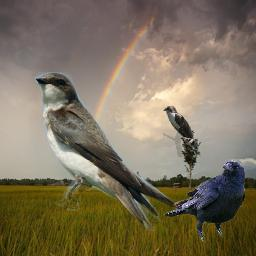Crow: (164, 160, 245, 242)
Cuckoo: (163, 106, 201, 157)
Swallow: (35, 72, 180, 231)
